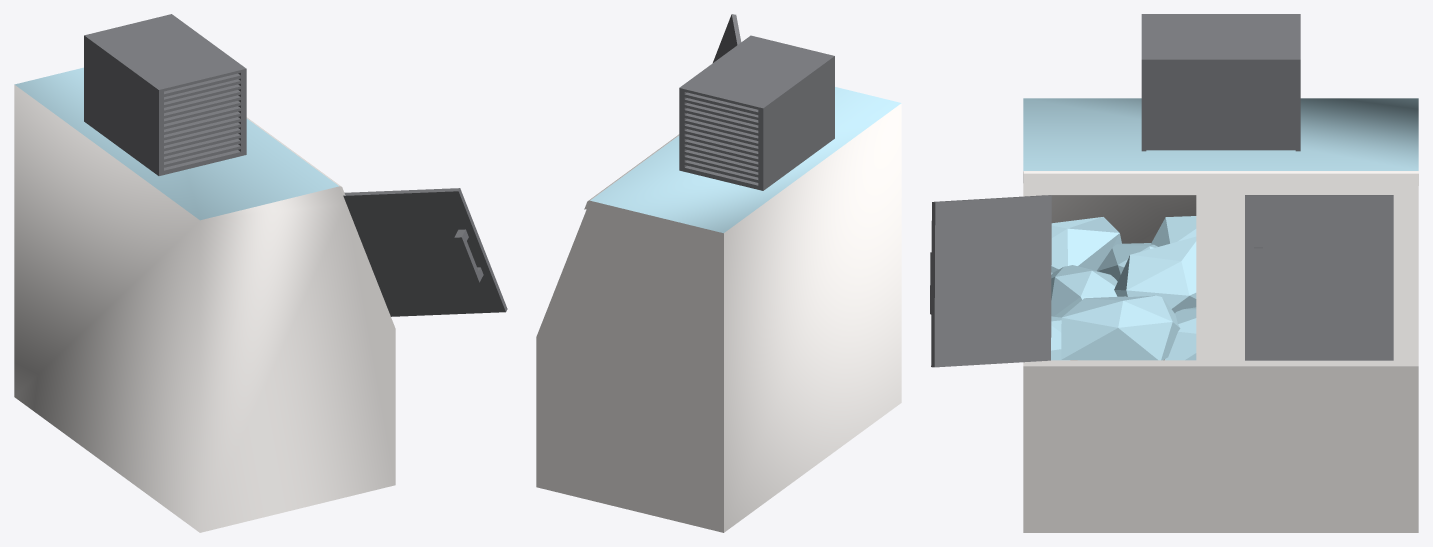
File: IceMachine.fbx
3 renders of one model, left to right at view 1: azimuth 30°, elevation 25°; view 2: azimuth 150°, elevation 25°; view 3: azimuth 270°, elevation 25°, orthographic. The views are drawn at different scales.
Visible parts, largest first — view 1: IceMachine; view 2: IceMachine; view 3: IceMachine.
Part boxes in pixels (box(x1,y1,x2,y2)): IceMachine: box(14, 14, 507, 532); IceMachine: box(536, 14, 901, 532); IceMachine: box(930, 14, 1418, 532).
Size of the model in its own units: 606 by 869 by 907.
